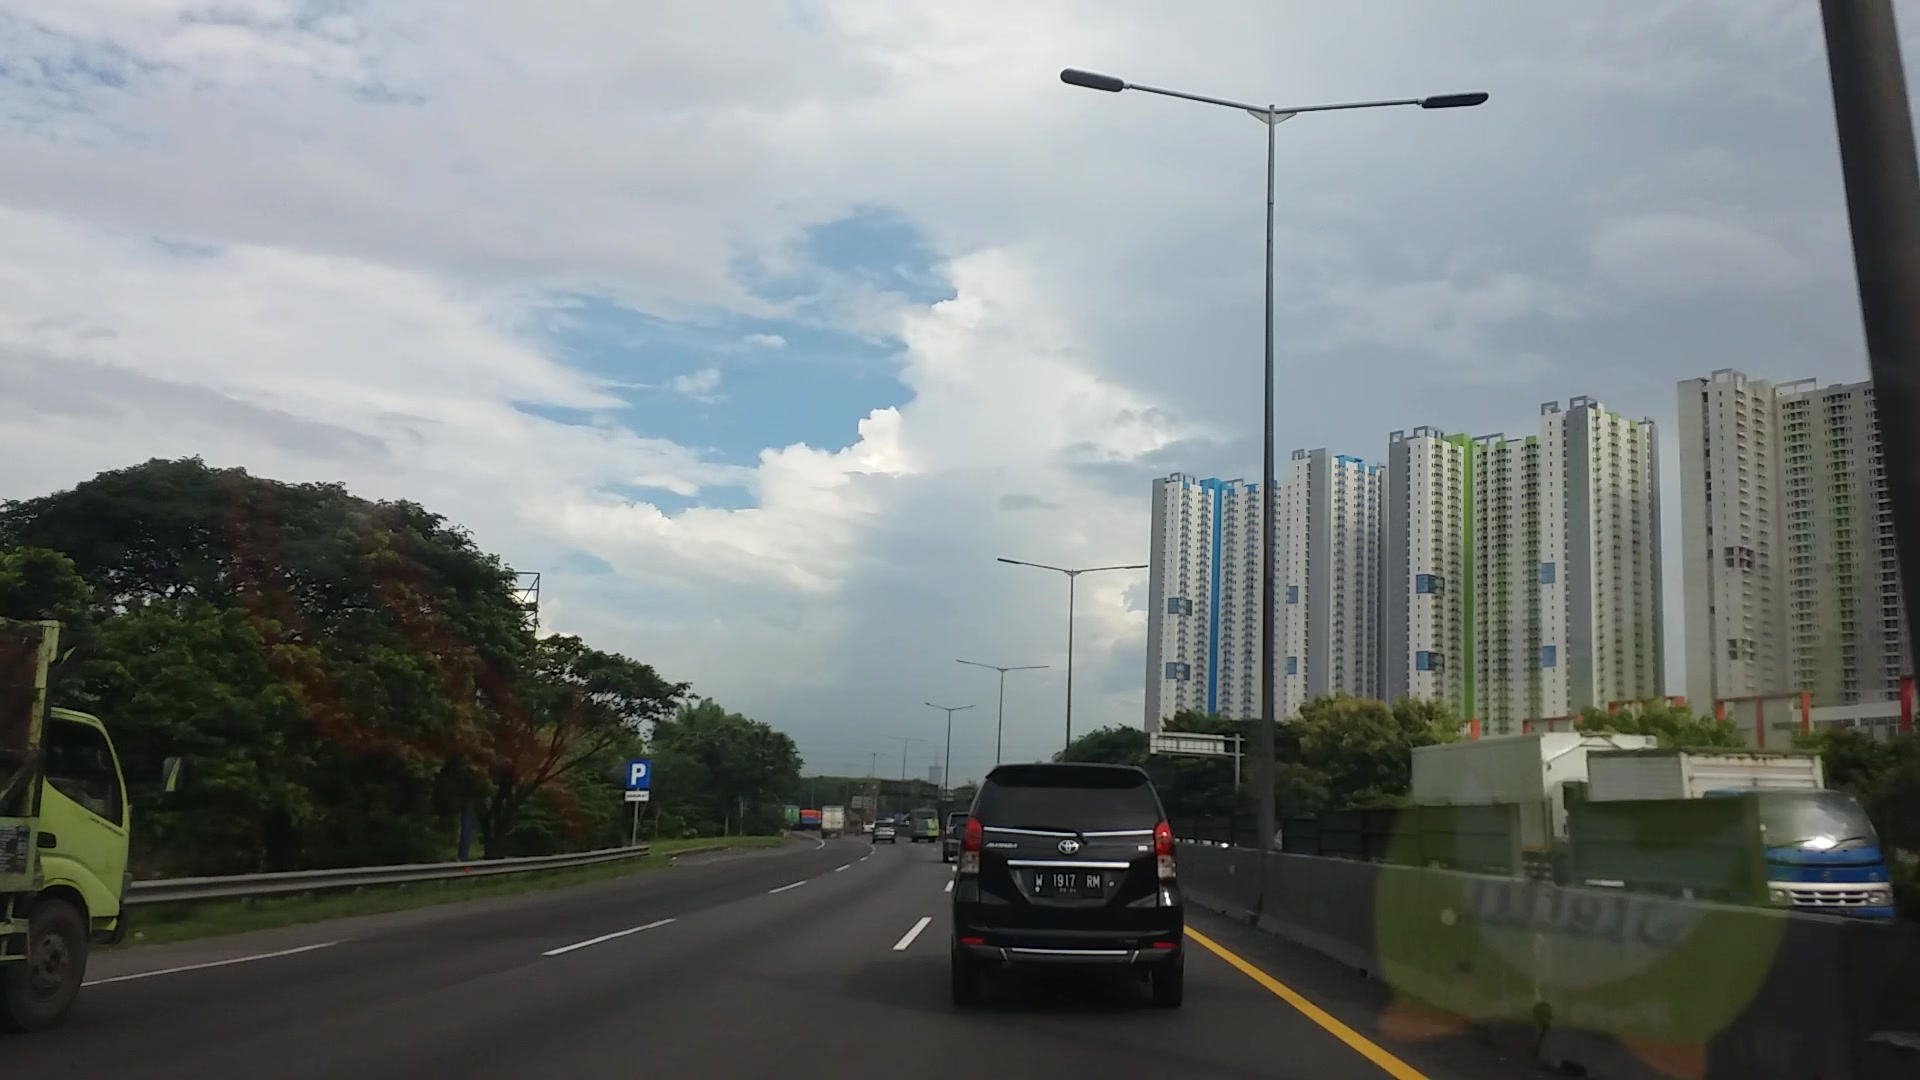plate_positive: (1033, 870, 1102, 898)
